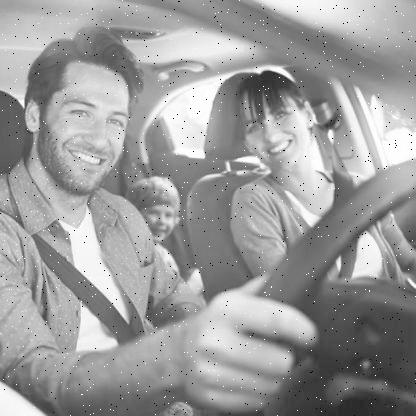seatbelt: (0, 35, 158, 341), (226, 69, 356, 250)
